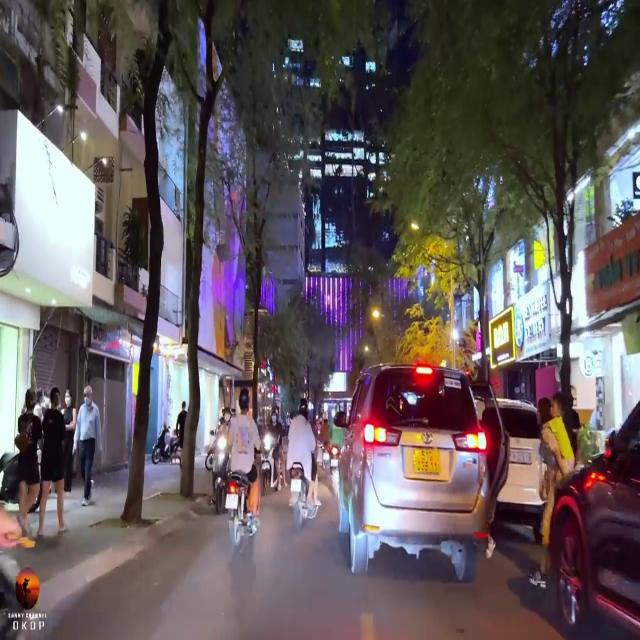bien_vang: (414, 447, 440, 474)
